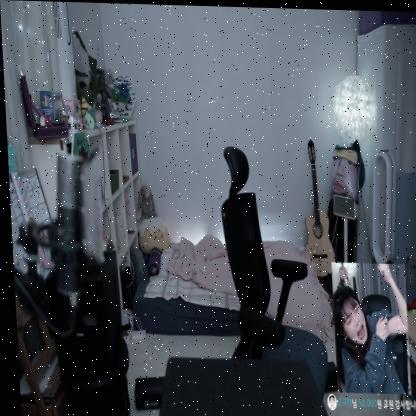donation: (315, 260, 416, 414)
